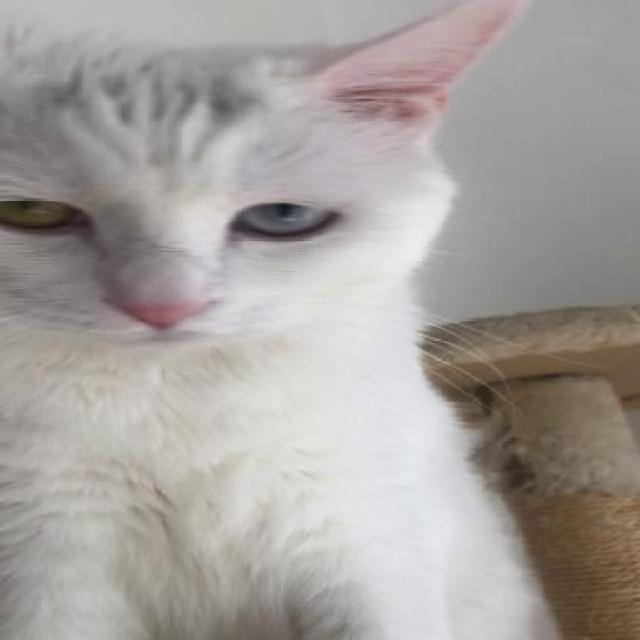cat-face: (0, 0, 509, 349)
